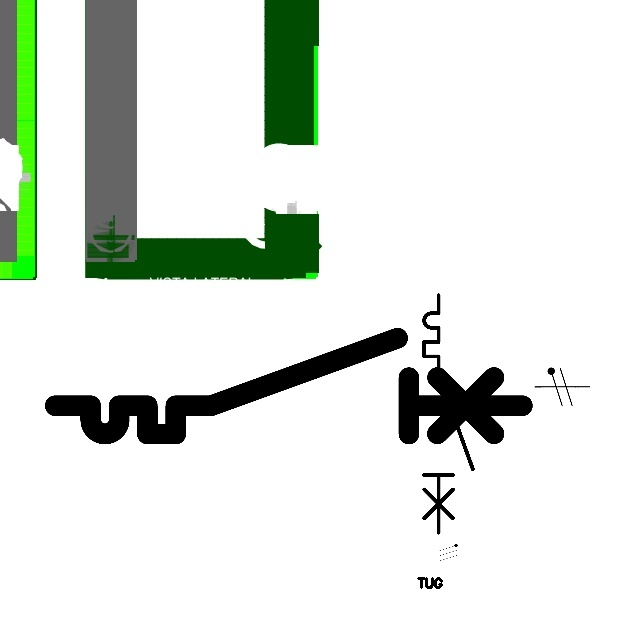interruptor_termomagnetico: (43, 326, 535, 446), (418, 289, 479, 539)
